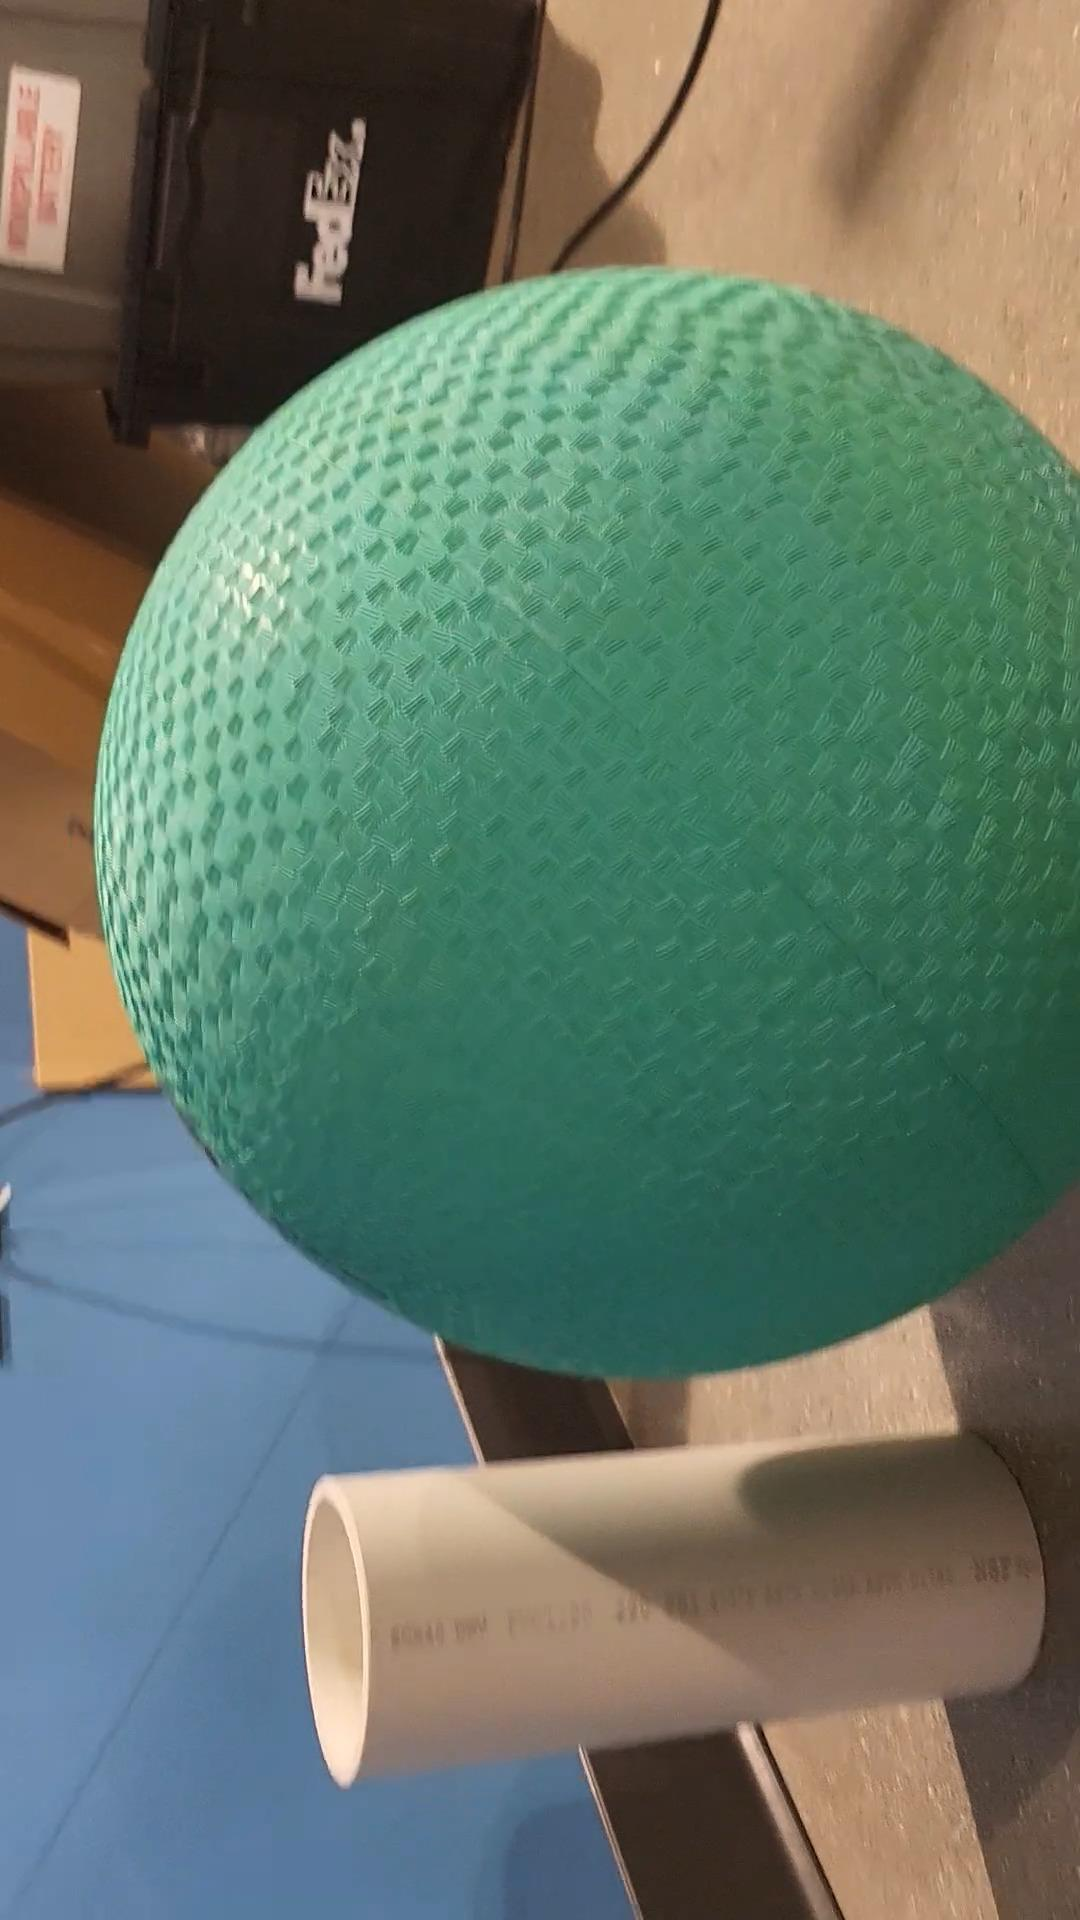algae: (90, 264, 1080, 1383)
coral: (297, 1431, 1043, 1787)
